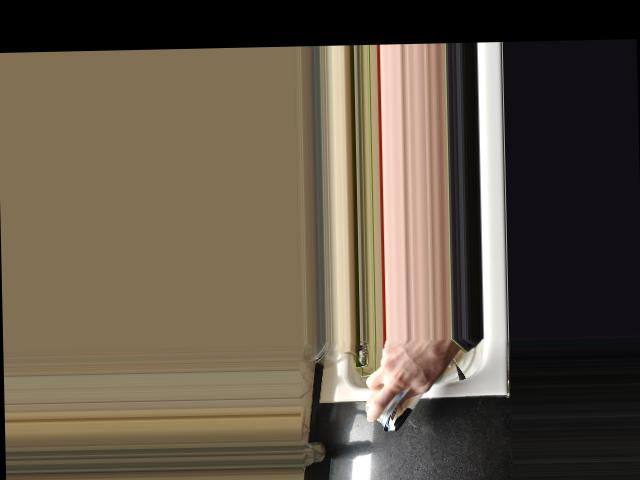cheese: (368, 344, 436, 435)
